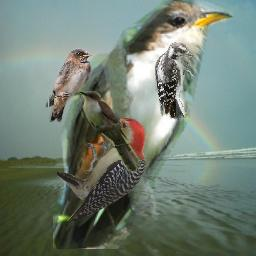Cuckoo: (53, 0, 233, 249), (77, 89, 141, 173)
Swallow: (45, 48, 92, 122)
Woodpecker: (57, 109, 150, 221), (155, 42, 195, 120)
